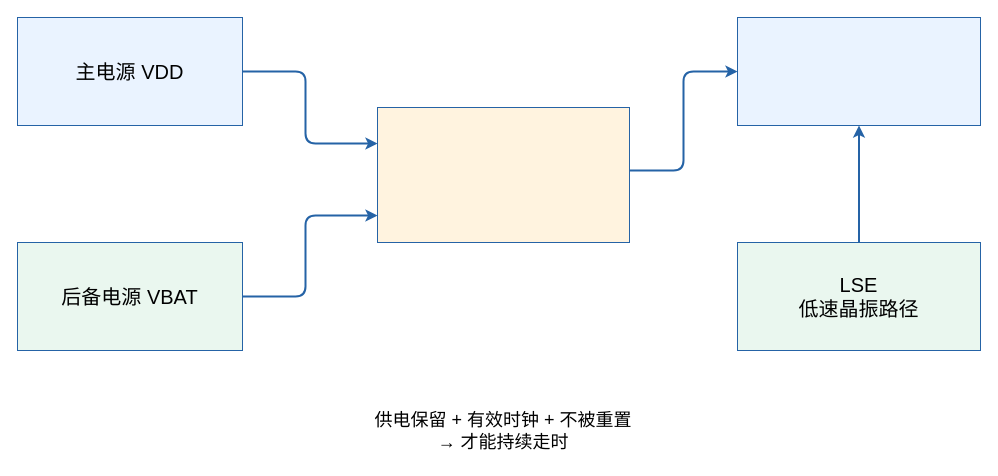
Some shapes in this 998 by 476 pixel diagram are drawn without their labels. Each missing label, with the centre of its shape:
RTC / BKP: [858,71]
后备域 电源切换与保持: [503,174]
